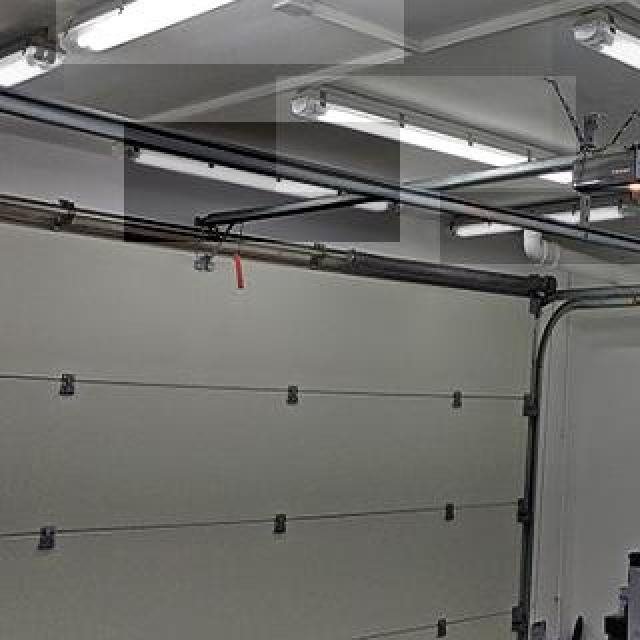fluorescent tube: (273, 79, 585, 197), (105, 116, 407, 231), (62, 0, 400, 46), (556, 0, 640, 160), (442, 192, 640, 254), (0, 2, 68, 120)
